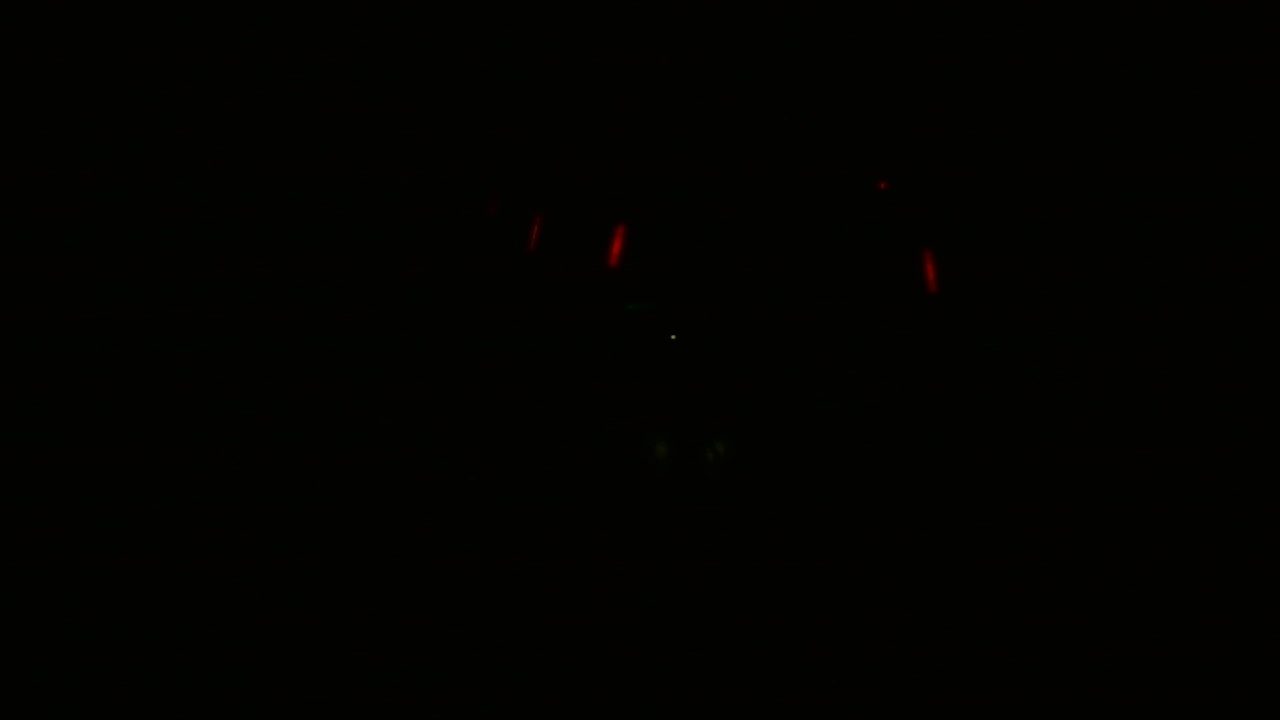pair1: (523, 215, 633, 268)
